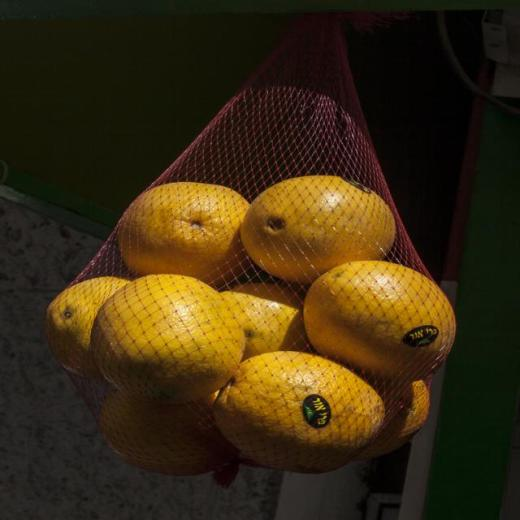Grape: (87, 274, 237, 410), (210, 349, 377, 470), (305, 253, 443, 386), (252, 165, 400, 283), (120, 183, 250, 278), (96, 399, 219, 475), (45, 275, 125, 352), (213, 285, 302, 350), (389, 381, 440, 443)
